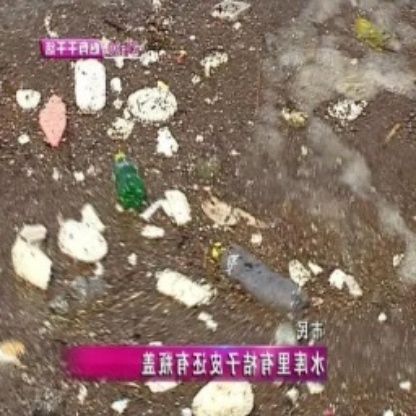bottle: (219, 245, 312, 313), (109, 149, 150, 208)
